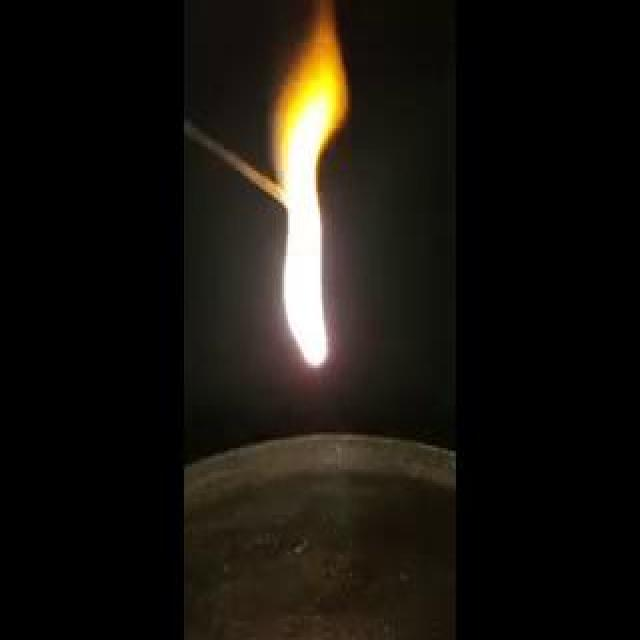Fire: (78, 224, 303, 328)
